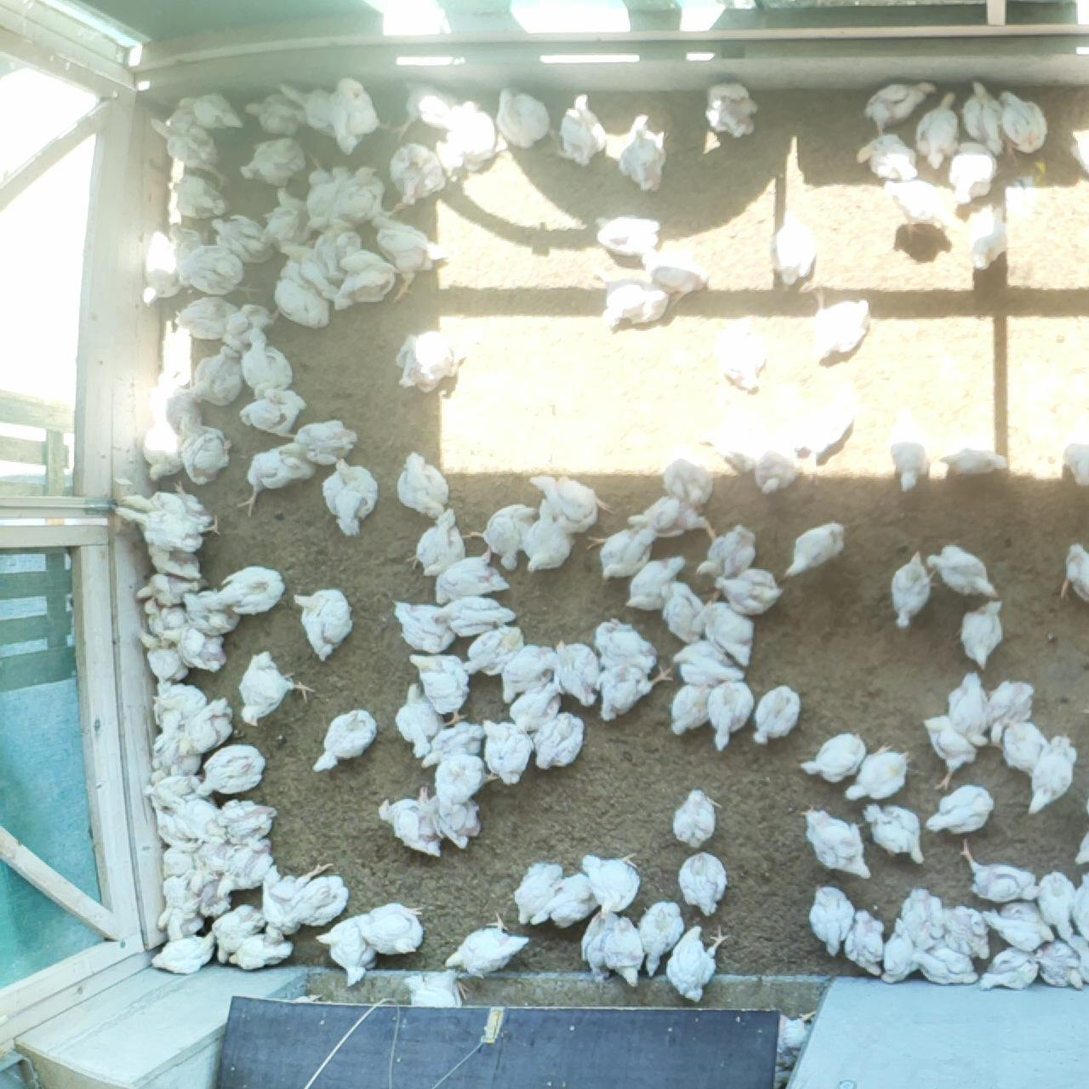chicken: (367, 214, 459, 311), (111, 504, 219, 581), (234, 650, 318, 731), (393, 322, 483, 397), (442, 913, 537, 982), (234, 441, 319, 518), (403, 647, 484, 726), (781, 381, 861, 460), (801, 282, 876, 364), (800, 804, 876, 884), (460, 501, 545, 572), (259, 857, 337, 934), (959, 836, 1047, 904), (318, 454, 387, 540), (881, 179, 966, 248), (414, 781, 492, 856), (371, 791, 458, 858), (526, 471, 617, 535), (588, 262, 673, 330), (699, 403, 780, 473), (665, 922, 733, 1005), (595, 659, 676, 728), (799, 730, 897, 787), (328, 81, 399, 158), (291, 587, 364, 661), (626, 492, 724, 547), (923, 539, 1005, 604), (311, 705, 385, 777), (684, 598, 760, 668), (393, 677, 457, 759), (854, 78, 941, 138), (1020, 732, 1082, 816), (391, 76, 471, 141), (271, 79, 349, 145), (432, 544, 515, 606), (922, 711, 983, 795), (404, 508, 477, 578), (312, 911, 379, 987), (638, 244, 714, 311), (274, 247, 354, 310), (332, 163, 408, 229), (842, 744, 922, 806), (947, 601, 1016, 672), (353, 899, 436, 958), (585, 520, 660, 585), (666, 636, 755, 690), (943, 670, 1002, 751), (531, 871, 608, 933), (862, 801, 932, 869), (777, 519, 851, 583), (148, 111, 224, 173), (659, 580, 725, 651), (177, 414, 238, 490), (884, 406, 937, 493), (195, 741, 273, 800), (714, 315, 772, 394), (430, 592, 525, 640), (690, 523, 761, 587), (521, 501, 579, 579), (477, 714, 538, 787), (620, 552, 693, 613), (926, 781, 1001, 840), (592, 611, 659, 677), (912, 89, 965, 172), (389, 596, 461, 657), (395, 448, 456, 520), (511, 857, 572, 929), (238, 138, 324, 189), (619, 109, 670, 195), (582, 846, 646, 914), (416, 718, 491, 776), (656, 446, 719, 515), (302, 163, 361, 236), (636, 893, 686, 979), (430, 749, 500, 810), (767, 207, 821, 286), (496, 642, 559, 709), (842, 906, 899, 980), (390, 142, 451, 211), (173, 293, 253, 345), (215, 835, 278, 901), (590, 213, 673, 263), (709, 570, 787, 623), (959, 78, 1010, 159), (239, 331, 297, 402), (212, 563, 288, 617), (205, 795, 282, 848), (217, 299, 285, 359), (237, 387, 311, 442), (985, 898, 1059, 953), (887, 546, 936, 629), (805, 883, 858, 959), (457, 625, 526, 683), (553, 92, 610, 162), (138, 228, 187, 309), (490, 87, 553, 150), (334, 248, 393, 315), (678, 850, 734, 920), (578, 905, 627, 985), (190, 343, 248, 410), (211, 211, 279, 268), (242, 87, 318, 138), (267, 280, 337, 335), (550, 638, 603, 710), (158, 623, 231, 675), (454, 99, 509, 168), (165, 93, 251, 137), (529, 710, 588, 774), (212, 901, 270, 966), (669, 786, 726, 852), (961, 203, 1015, 272), (707, 679, 756, 755), (989, 678, 1038, 754), (178, 696, 237, 759), (165, 173, 238, 223), (945, 139, 1001, 204), (156, 365, 206, 437), (999, 715, 1055, 779), (750, 683, 805, 748), (878, 917, 929, 987), (1000, 87, 1050, 158), (936, 904, 995, 964), (661, 678, 717, 741), (291, 417, 360, 468), (855, 131, 924, 182), (753, 430, 805, 497), (137, 627, 195, 687), (155, 869, 210, 932), (182, 244, 247, 296), (172, 793, 229, 851), (706, 82, 763, 140), (937, 443, 1019, 483), (263, 188, 311, 256), (507, 680, 564, 737), (1035, 868, 1080, 940), (231, 925, 297, 974), (139, 414, 183, 487), (902, 885, 948, 953), (603, 916, 646, 988), (1030, 936, 1085, 992), (182, 592, 247, 639), (145, 774, 221, 814), (762, 1006, 822, 1056), (289, 880, 349, 929), (979, 949, 1044, 994), (149, 930, 217, 973), (404, 967, 475, 1006), (148, 737, 205, 785), (916, 946, 982, 987), (154, 679, 210, 727), (318, 222, 365, 279), (151, 802, 205, 851), (141, 594, 197, 641), (135, 569, 210, 603), (161, 891, 213, 940), (436, 118, 474, 185), (1054, 538, 1089, 607), (145, 708, 192, 759), (158, 838, 209, 884), (193, 868, 233, 919), (1061, 421, 1089, 489), (768, 1053, 805, 1089), (1065, 932, 1089, 986), (1072, 797, 1089, 867), (1066, 123, 1089, 173), (1073, 874, 1089, 942)
